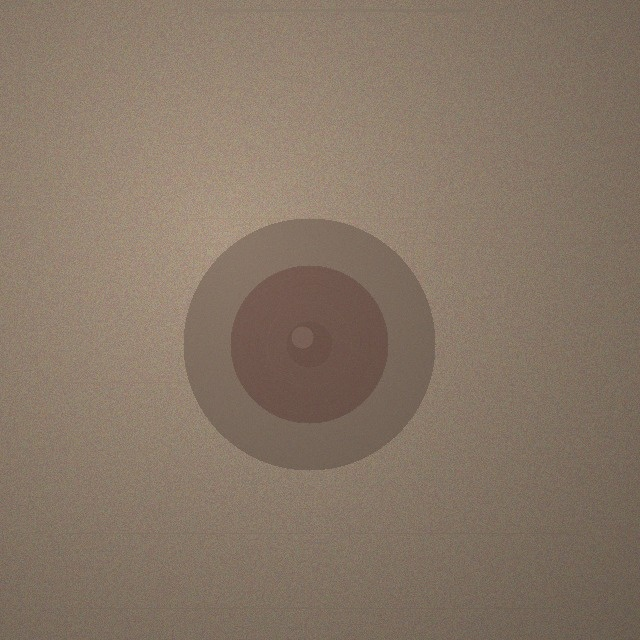good: (183, 218, 435, 470)
